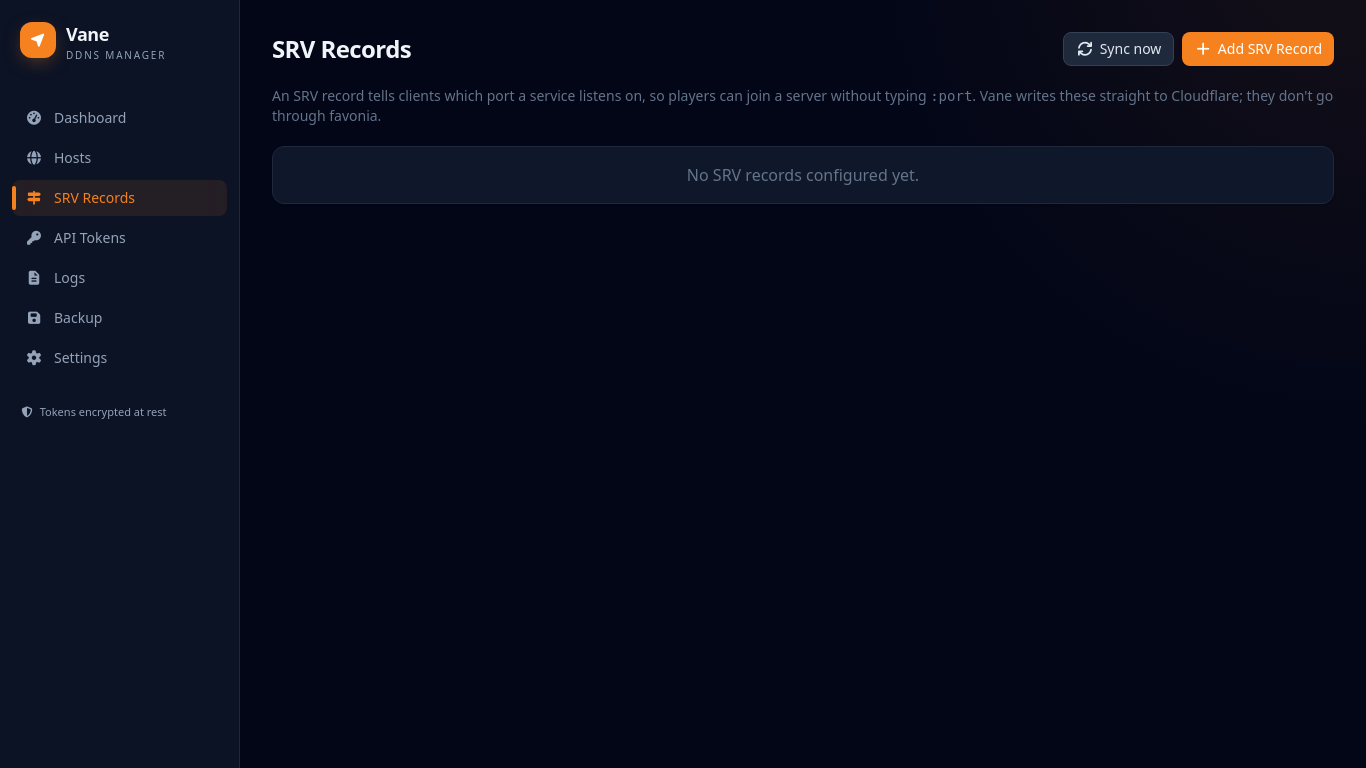
it: main UI flows › syncs SRV records on demand
Click the button "Sync now" at (1119, 49), box [1063,32,1174,66]
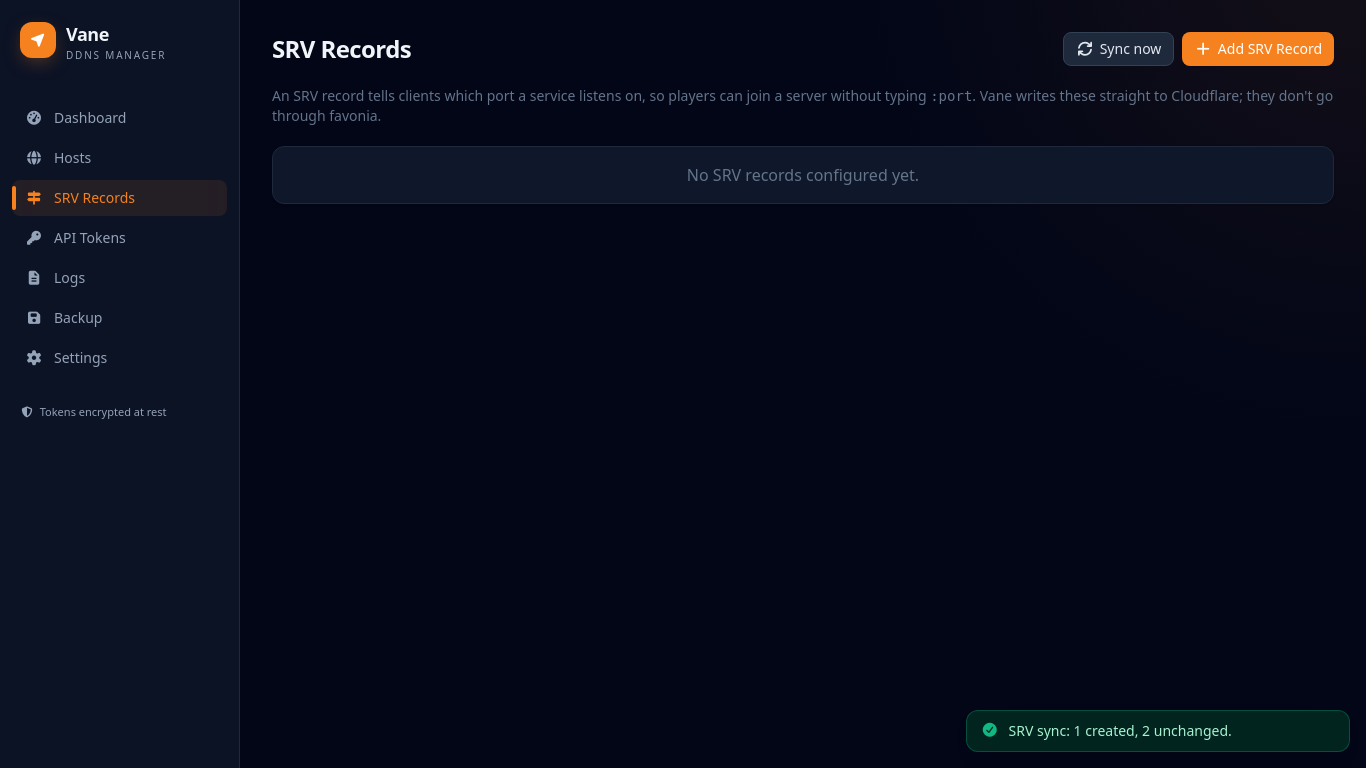
Result: the text "SRV sync: 1 created, 2 unchanged." is shown at [1008,721,1232,741]
